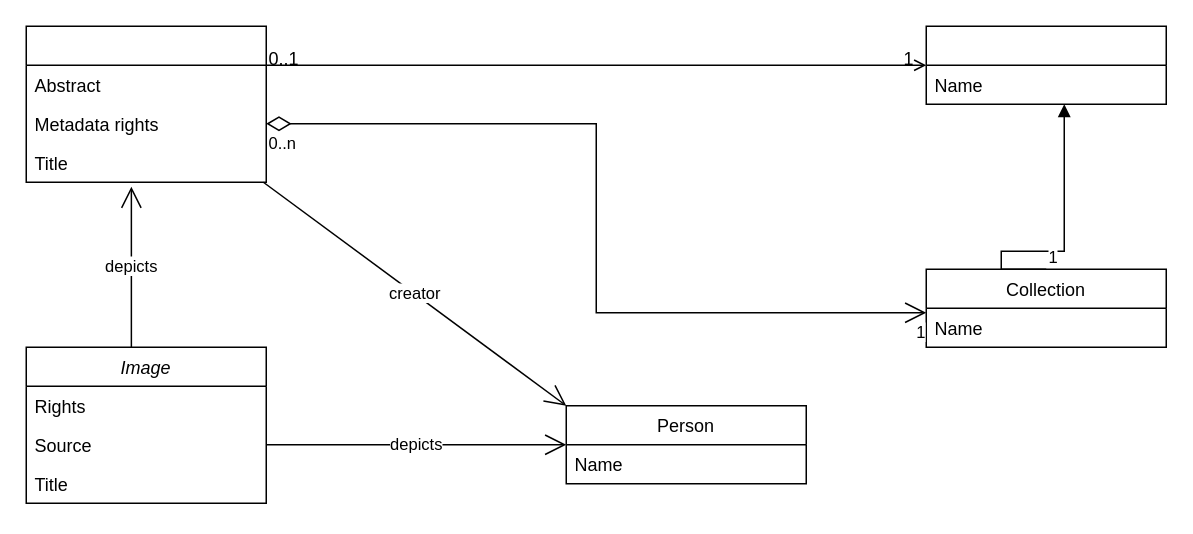
Image size: 1193x534. Some labels were removed from this diagram. The box of each missing label's shape, as (x1, y1, x2, y2) in pixels:
Institution: (925, 25, 1166, 104)
Work: (25, 25, 266, 182)
